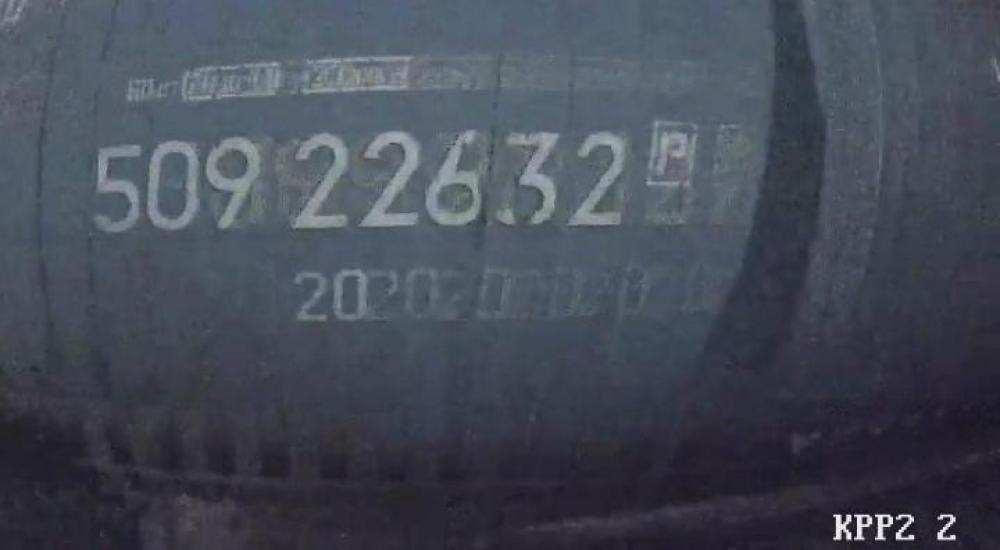Wagon-number: (89, 124, 627, 236)
